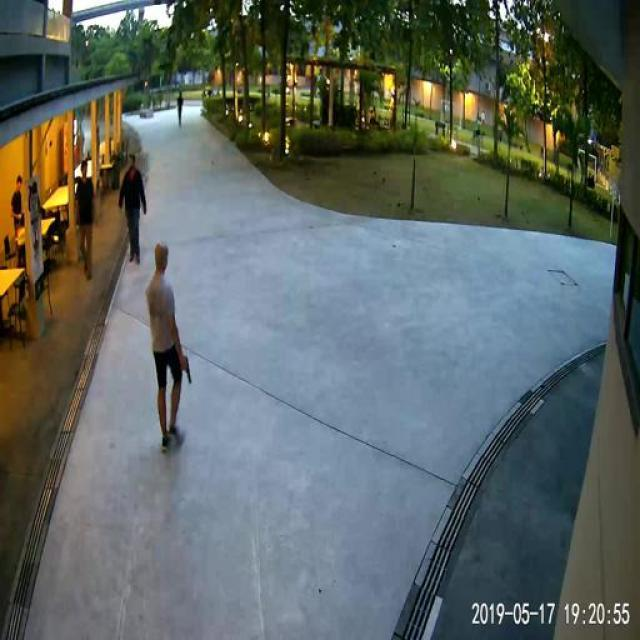Gun: (175, 352, 204, 391)
